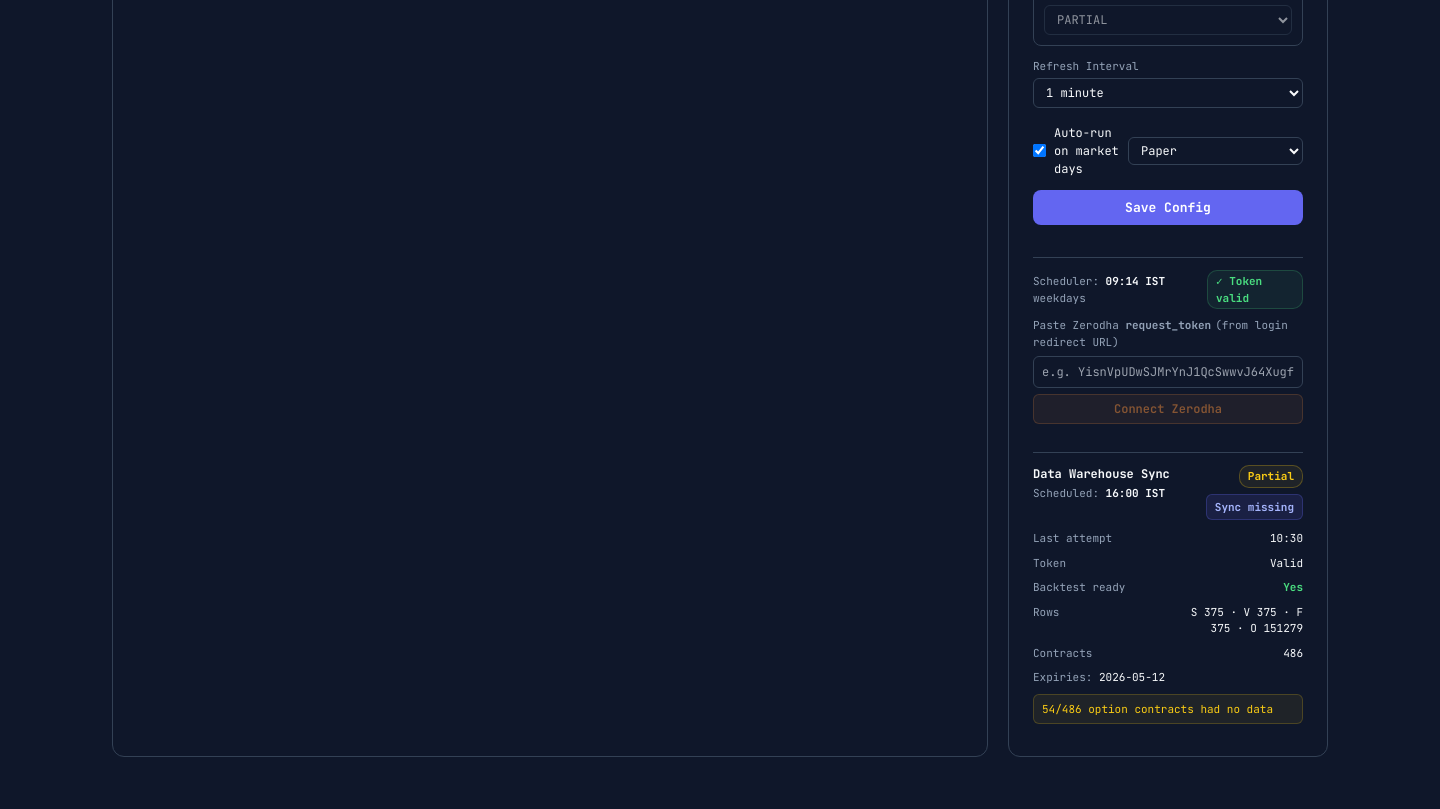
Scenario: LivePaperMonitor data sync status › starts a manual missing-only warehouse sync from the status card
The image size is (1440, 809).
(page scrolled)
Click the button "Sync missing": (1254, 507) [1206, 494, 1303, 520]
(page scrolled)
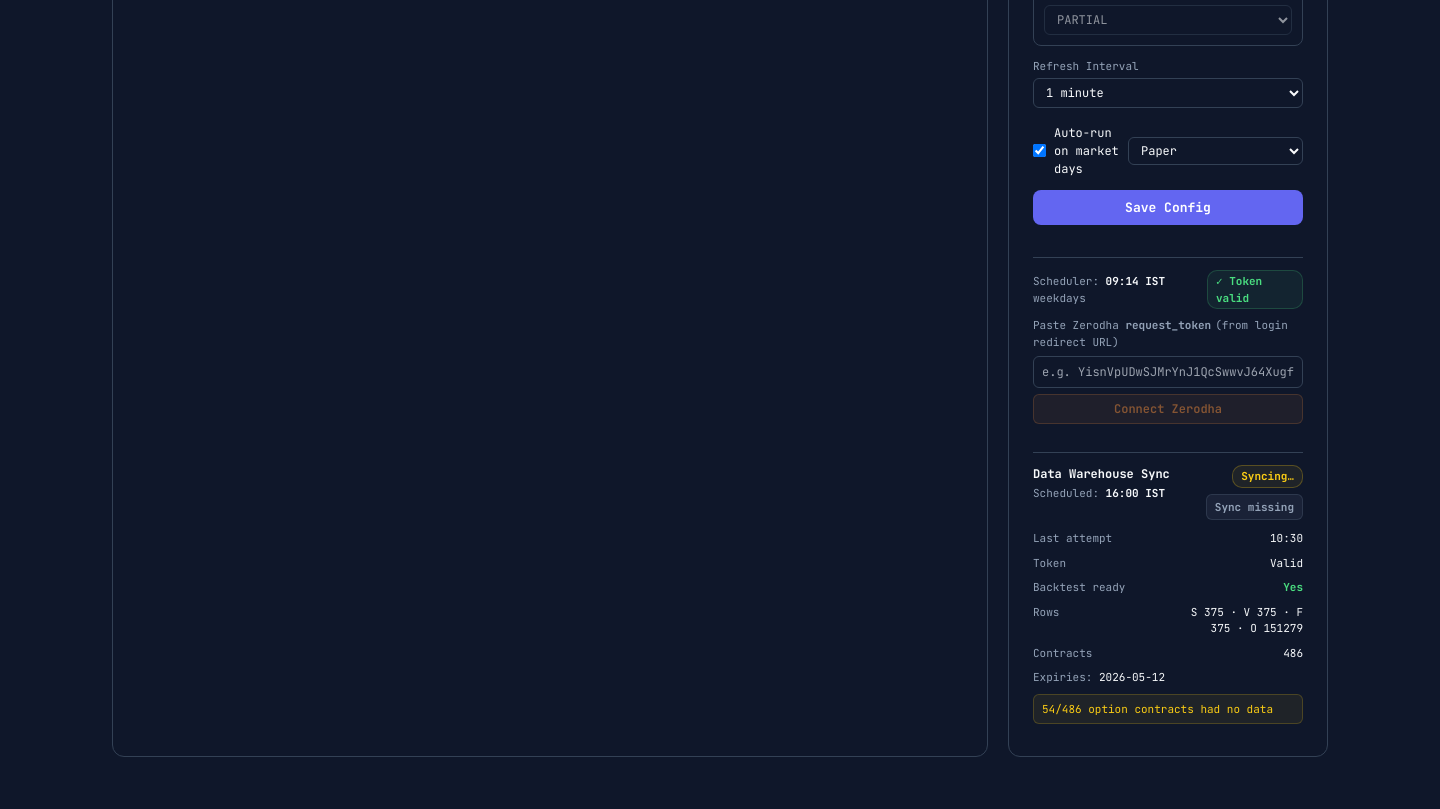
Expected: the text "Syncing…" is shown, [1232, 465, 1303, 488]
